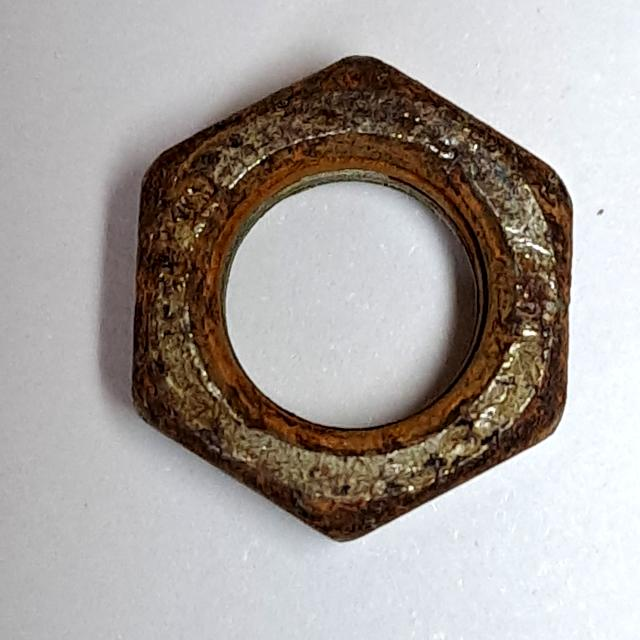Rust: (117, 44, 583, 556)
